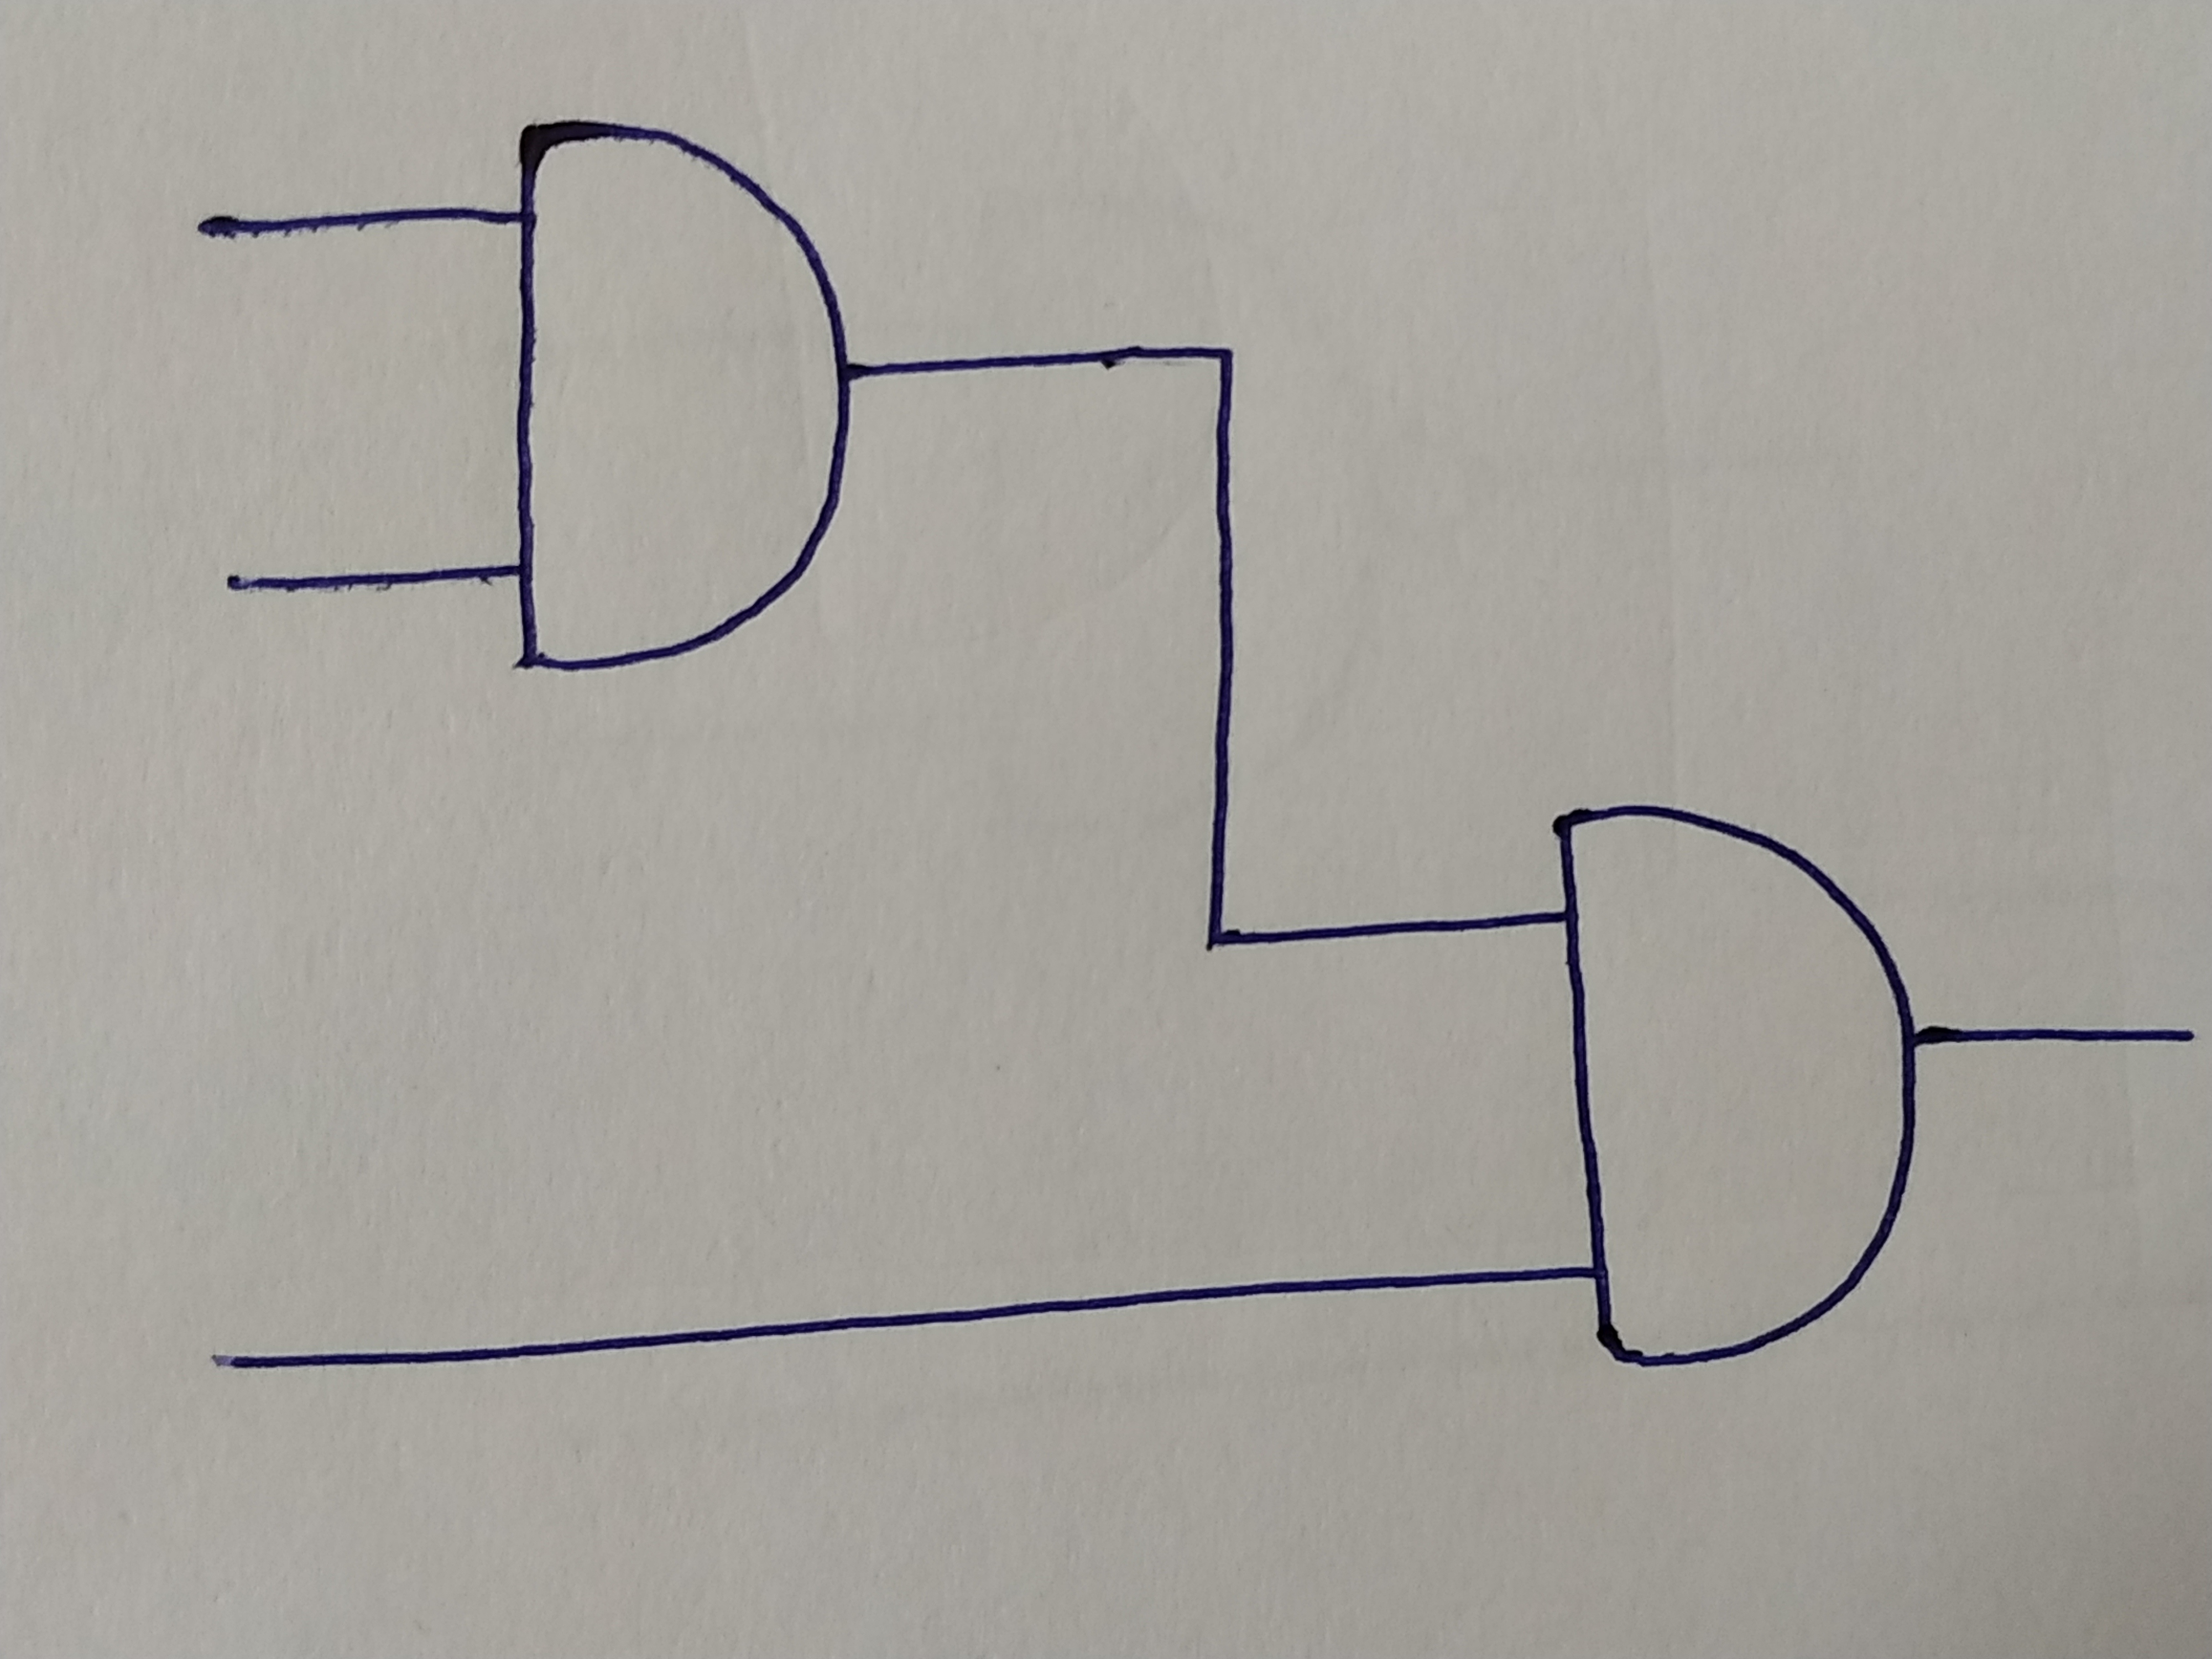and: (1552, 809, 1909, 1378), (510, 117, 846, 664)
